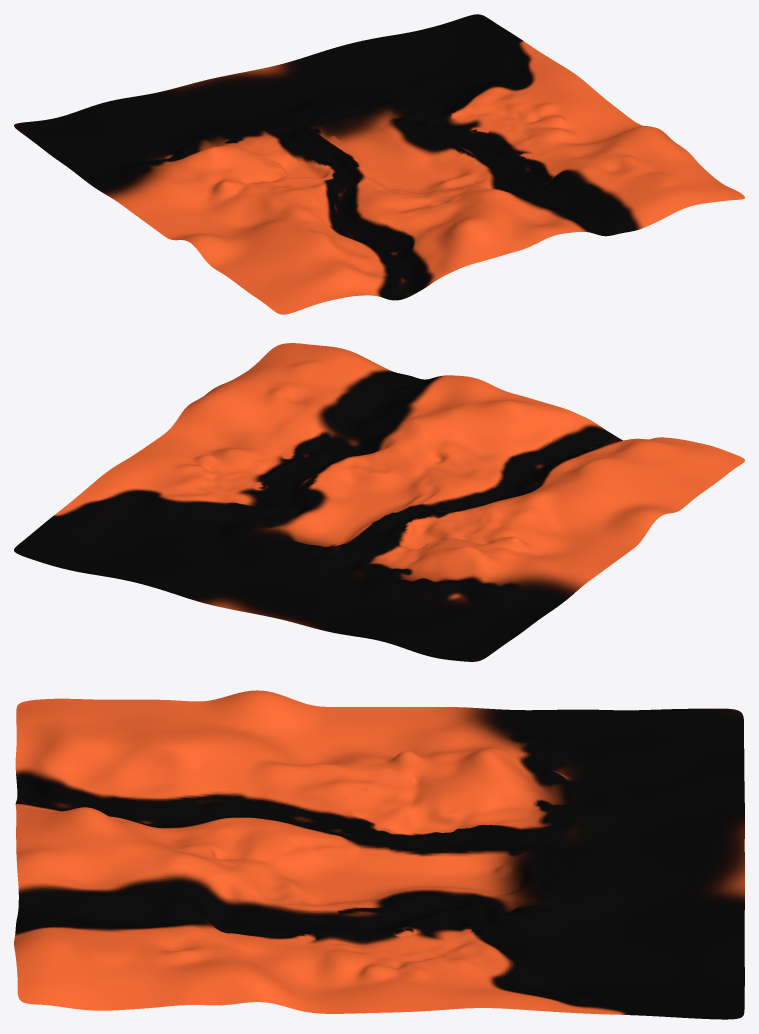
File: Ground.fbx
3 renders of one model, top to bottom at view 1: azimuth 30°, elevation 25°; view 2: azimuth 150°, elevation 25°; view 3: azimuth 270°, elevation 25°, orthographic. The views are drawn at different scales.
Parts seen in each view (by area): view 1: Terrain_01; view 2: Terrain_01; view 3: Terrain_01.
Part boxes in pixels (box(x1,y1,x2,y2)): Terrain_01: box(14, 14, 744, 314); Terrain_01: box(14, 343, 744, 661); Terrain_01: box(14, 690, 744, 1019).
Size of the model in its own units: 296669 by 296820 by 23890.
